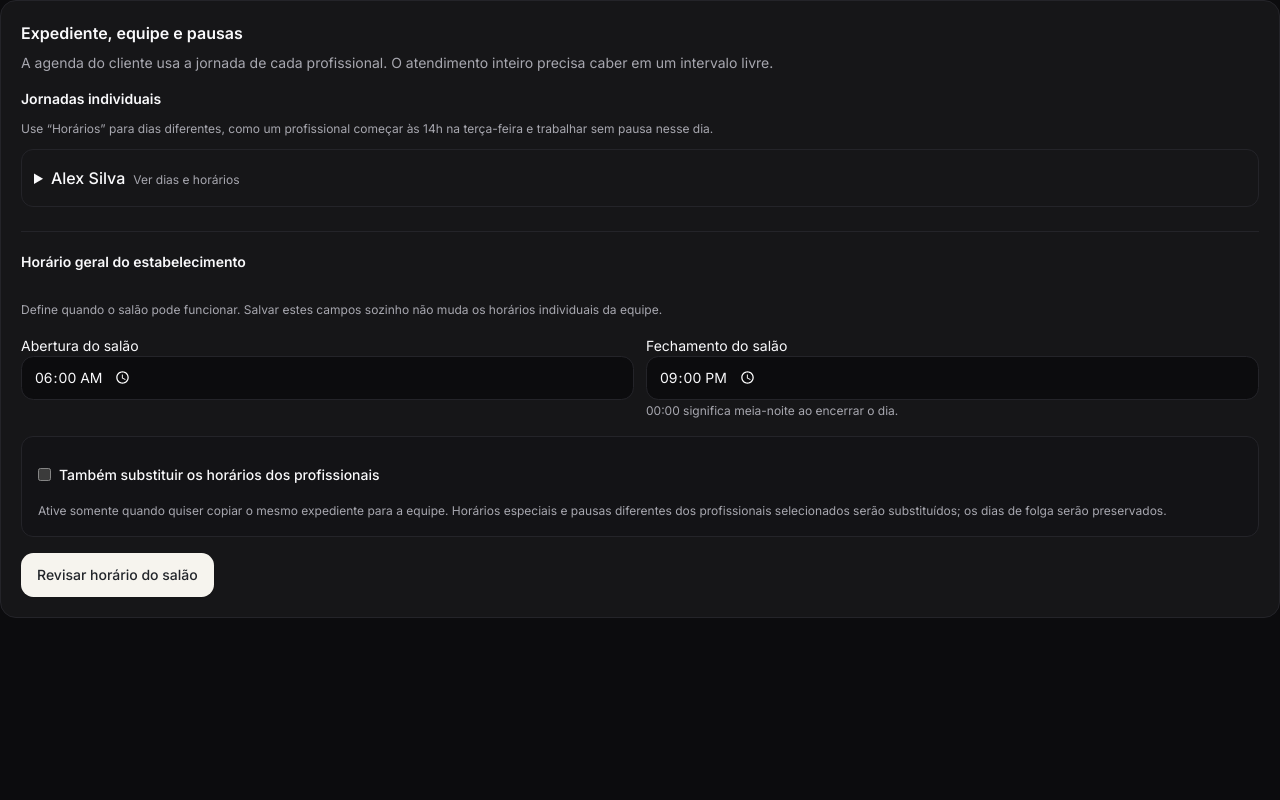
it: configuração clara de salão e jornadas › salva somente o horário geral por padrão e preserva jornadas individuais
The image size is (1280, 800).
expect the checkbox labelled "Também substituir os horários dos profissionais" is not checked: met, box [38,468,51,481]
What coordinates should you click on to do the following:
click the button "Revisar horário do salão"
I would click on:
 (117, 575)
Its box is [21,553,214,597].
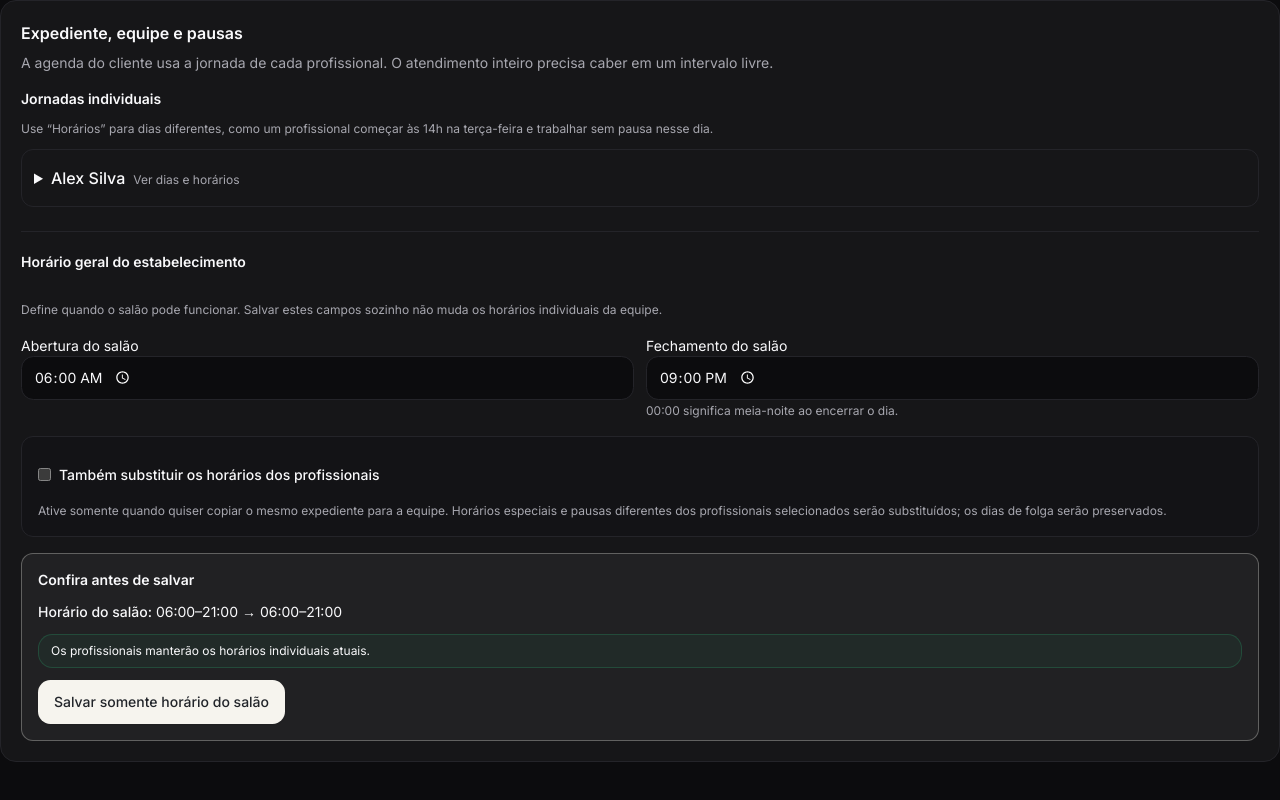
expect the text "Os profissionais manterão os horários individuais atuais." is shown: met, box [38,634,1242,668]
What coordinates should you click on to do the following:
click the button "Salvar somente horário do salão"
I would click on:
 (162, 702)
Its box is [38,680,285,724].
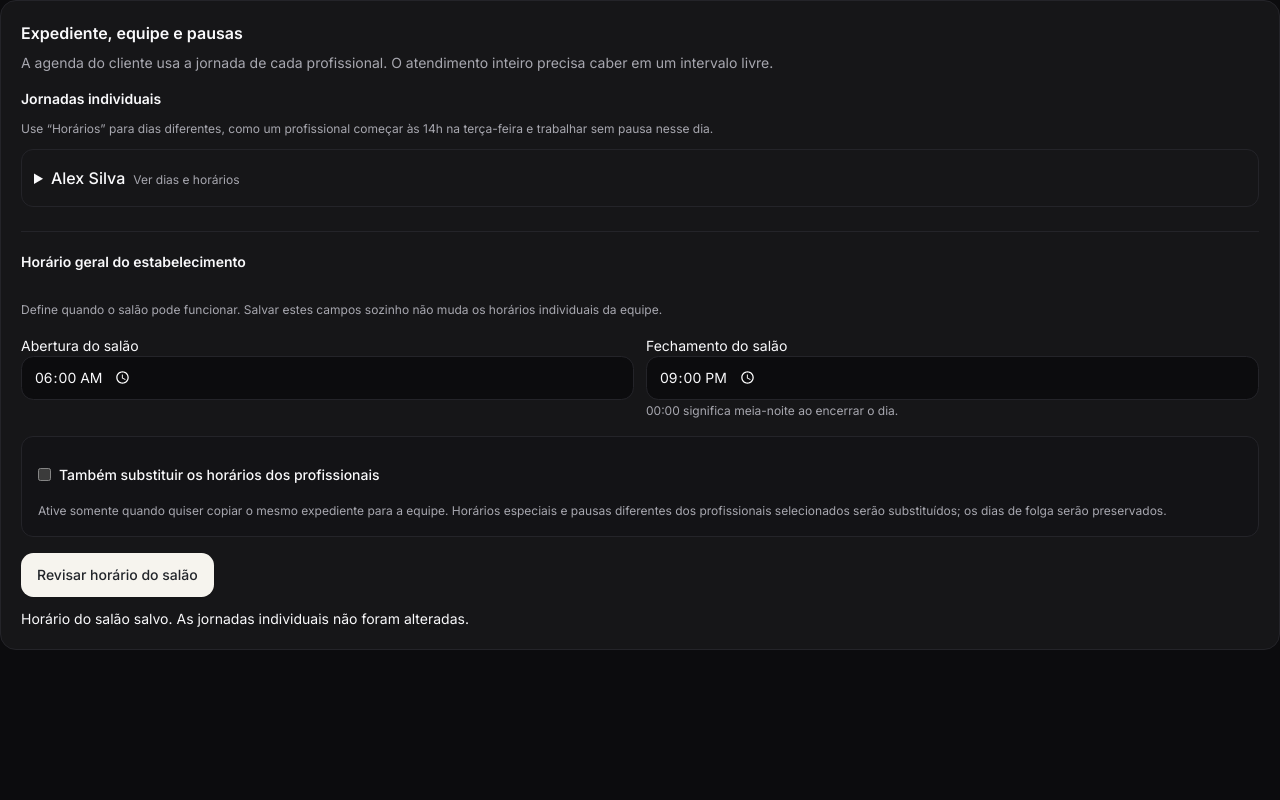
expect the message shows "jornadas individuais não foram alteradas": met, box [21,610,469,627]
